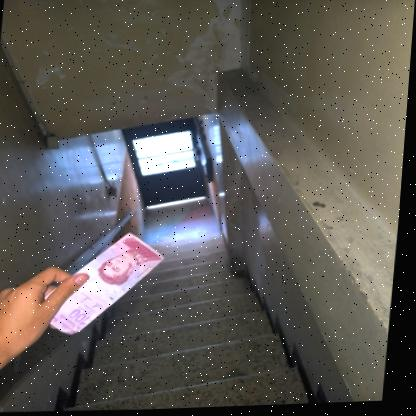one_hundred-front-vef: (43, 230, 170, 338)
